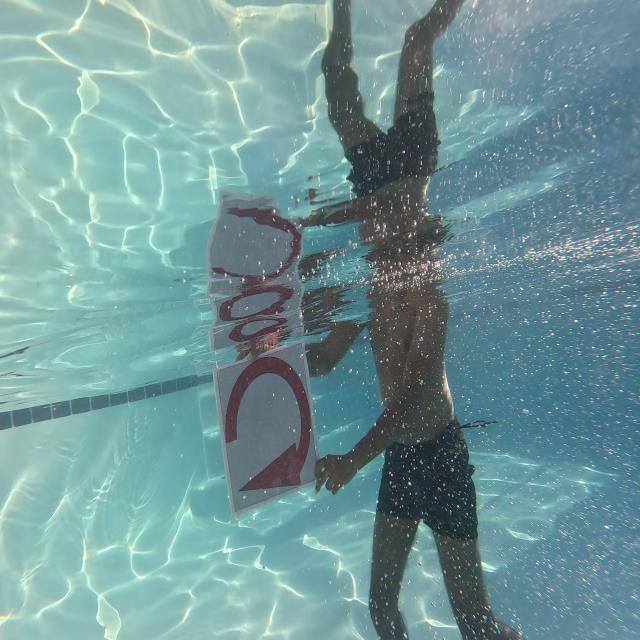red_side: (206, 368, 324, 509)
